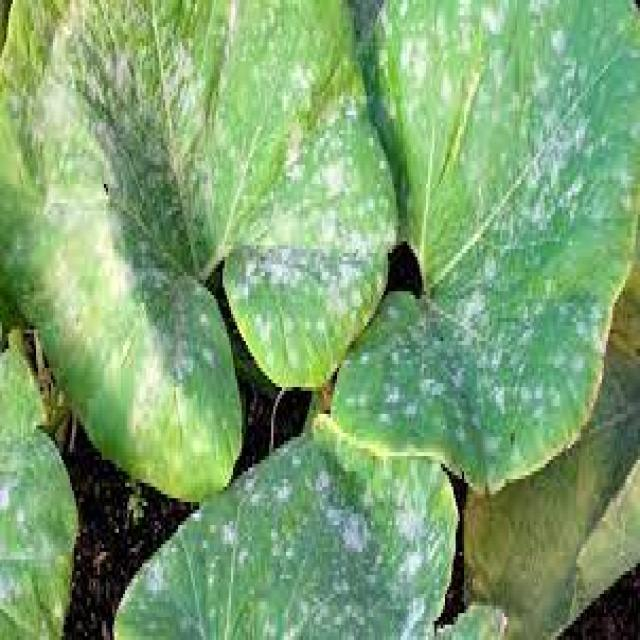powdery-mildew: (29, 54, 152, 313), (297, 460, 424, 614), (265, 154, 357, 296), (519, 48, 589, 226), (357, 5, 450, 105), (447, 263, 512, 336)
